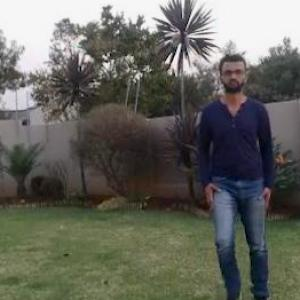follow: (190, 34, 284, 299)
